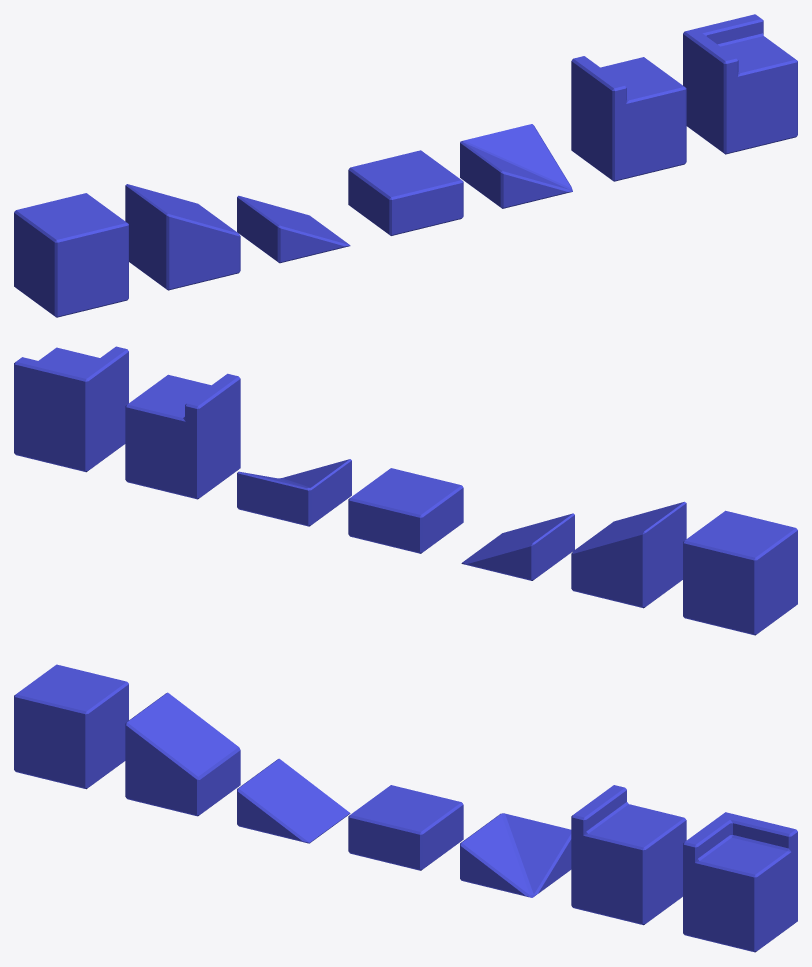
Rendered from world-block-v1.glb.
3 renders of one model, top to bottom at view 1: azimuth 30°, elevation 25°; view 2: azimuth 150°, elevation 25°; view 3: azimuth 330°, elevation 25°, orthographic.
Visible parts, largest first — view 1: BlockWallCorner, BlockWall, Block, RampTop, BlockShort, RampLowerCorner, RampBottom; view 2: BlockWallCorner, BlockWall, Block, RampTop, BlockShort, RampLowerCorner, RampBottom; view 3: BlockWallCorner, BlockWall, Block, RampTop, BlockShort, RampLowerCorner, RampBottom.
Part boxes in pixels (x1,y1,x2,y2): BlockWallCorner: [683, 14, 797, 154]; BlockWall: [571, 56, 686, 181]; Block: [14, 193, 128, 317]; RampTop: [125, 184, 240, 290]; BlockShort: [348, 150, 463, 235]; RampLowerCorner: [460, 124, 572, 208]; RampBottom: [237, 195, 350, 263]; BlockWallCorner: [14, 346, 128, 472]; BlockWall: [125, 373, 240, 499]; Block: [683, 510, 797, 635]; RampTop: [571, 501, 686, 608]; BlockShort: [348, 468, 463, 553]; RampLowerCorner: [237, 459, 351, 526]; RampBottom: [461, 513, 574, 580]; BlockWallCorner: [683, 812, 797, 952]; BlockWall: [571, 785, 686, 925]; Block: [14, 664, 128, 789]; RampTop: [125, 692, 240, 816]; BlockShort: [348, 785, 463, 870]; RampLowerCorner: [460, 813, 571, 897]; RampBottom: [237, 758, 350, 843].
Size of what is drawn, in the model's own units: 20 by 2.4 by 2.
